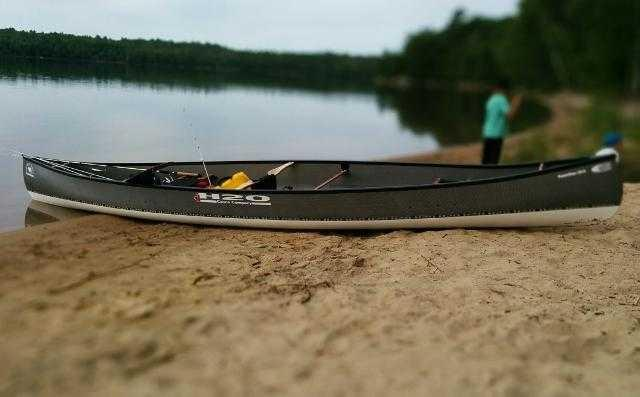kayak: (3, 144, 636, 235)
